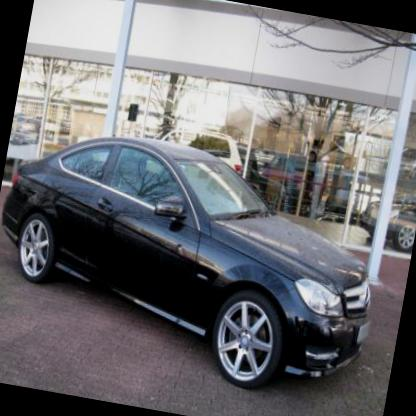car: (0, 113, 397, 405)
